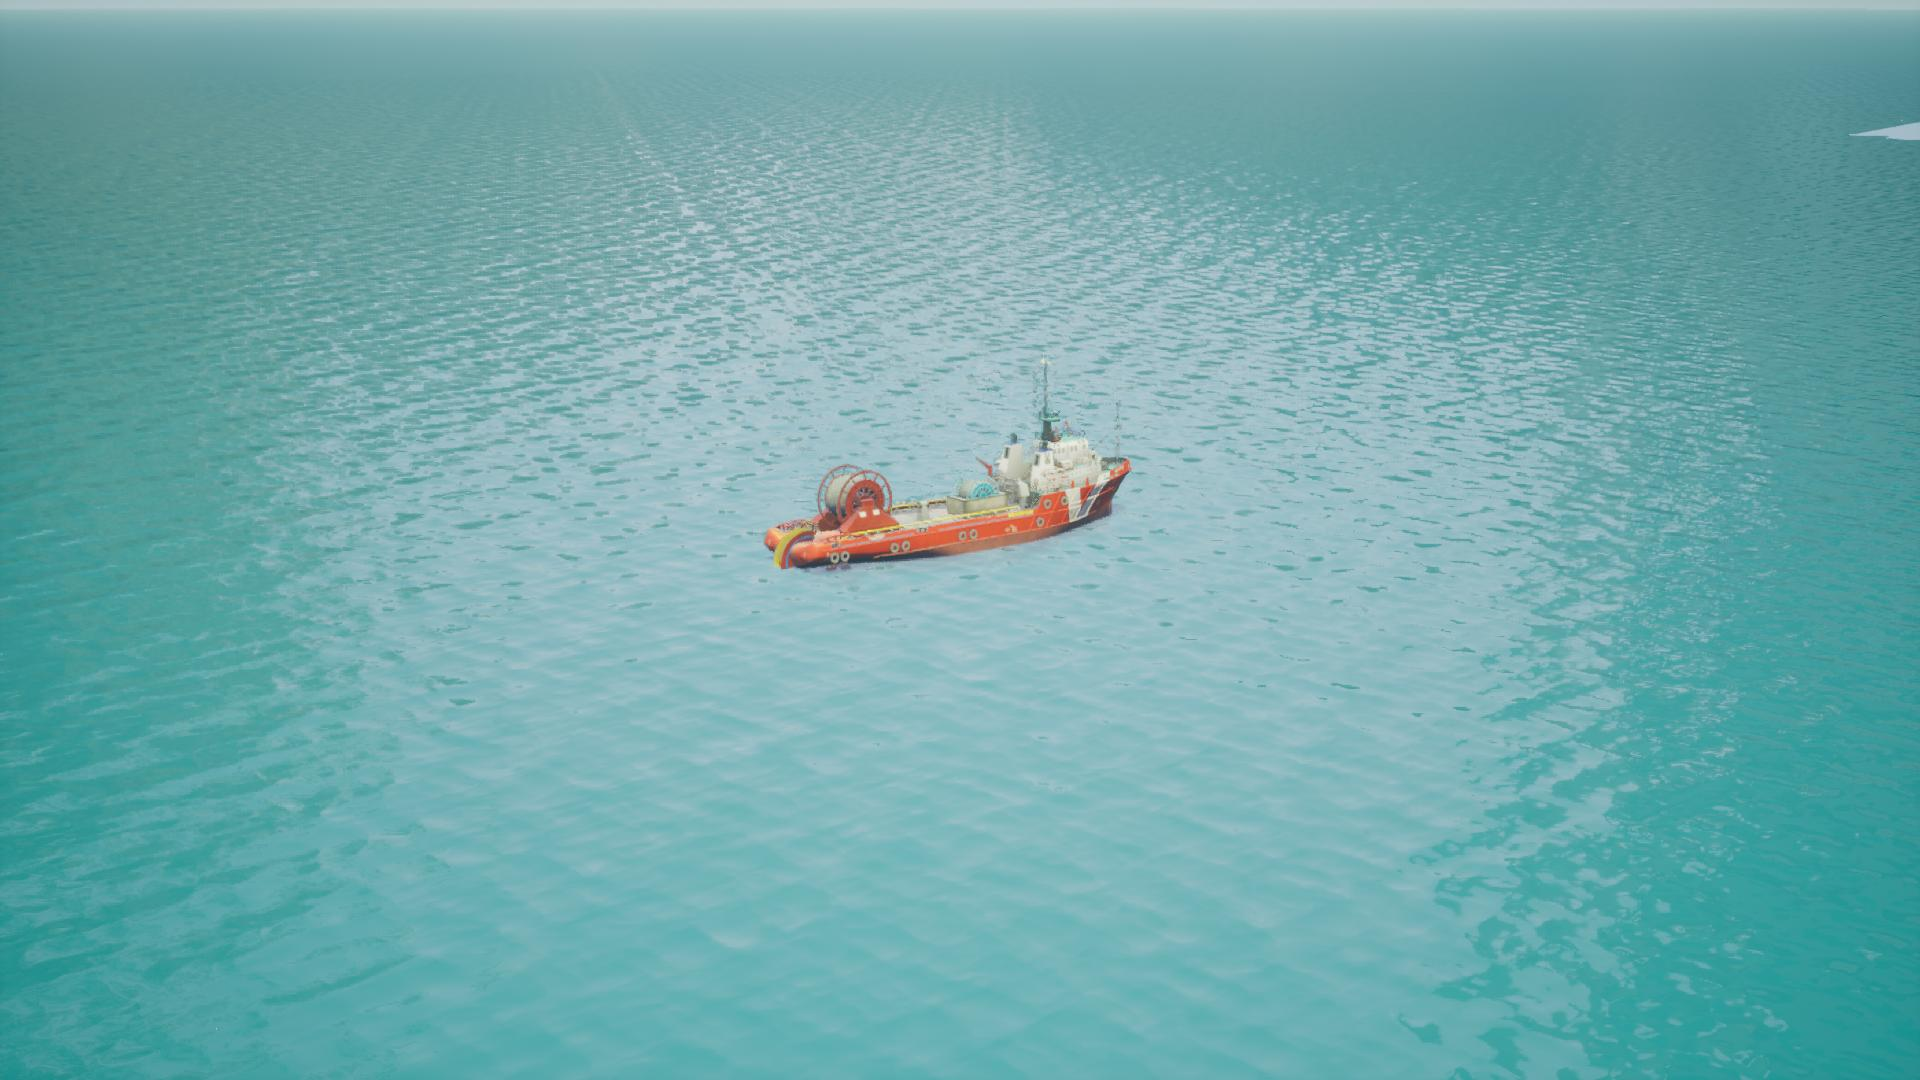Tug Boat: (770, 436, 1133, 570)
